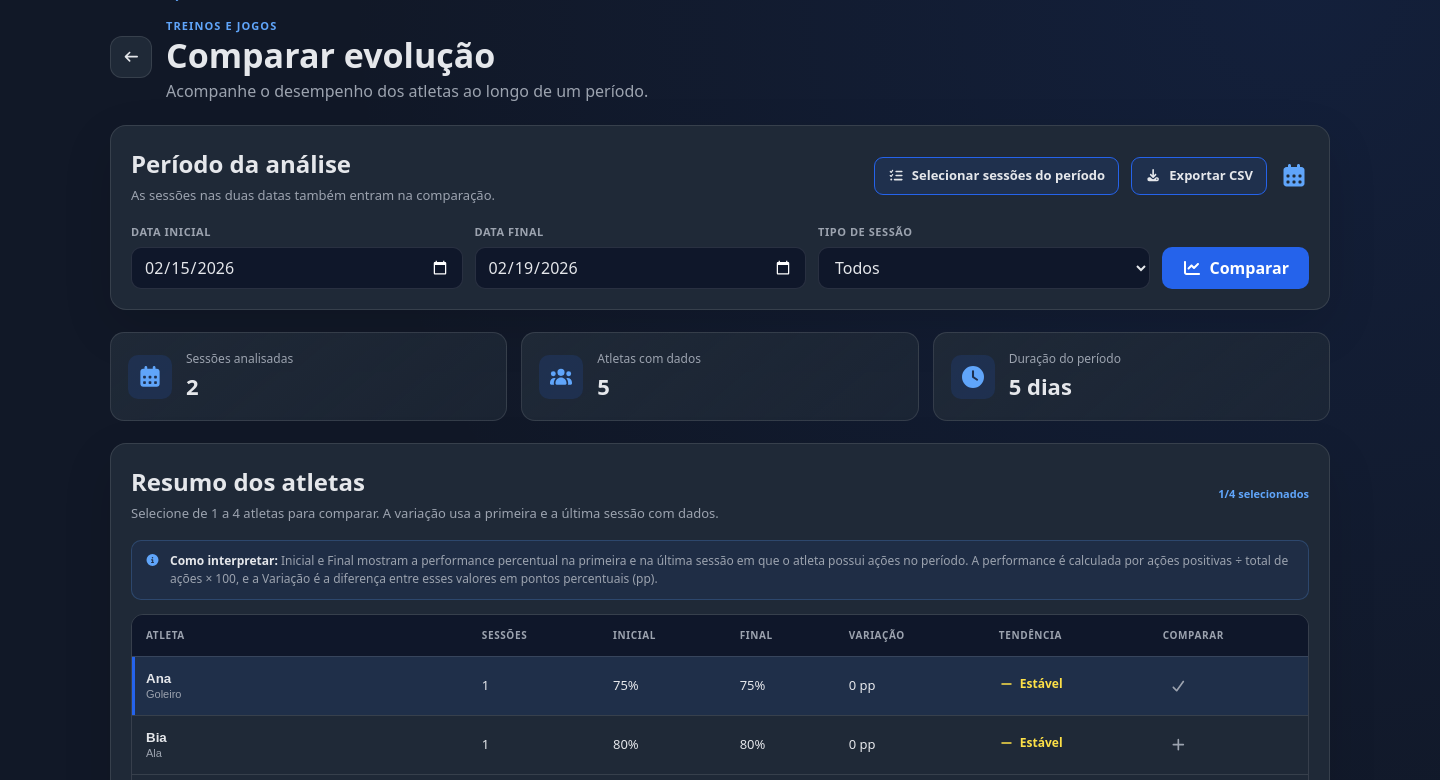
SessionComparison › limits the comparison to four athletes
Click the button named "Adicionar Bia à comparação".
click(1179, 745)  # box [1163,729,1195,761]
(page scrolled)
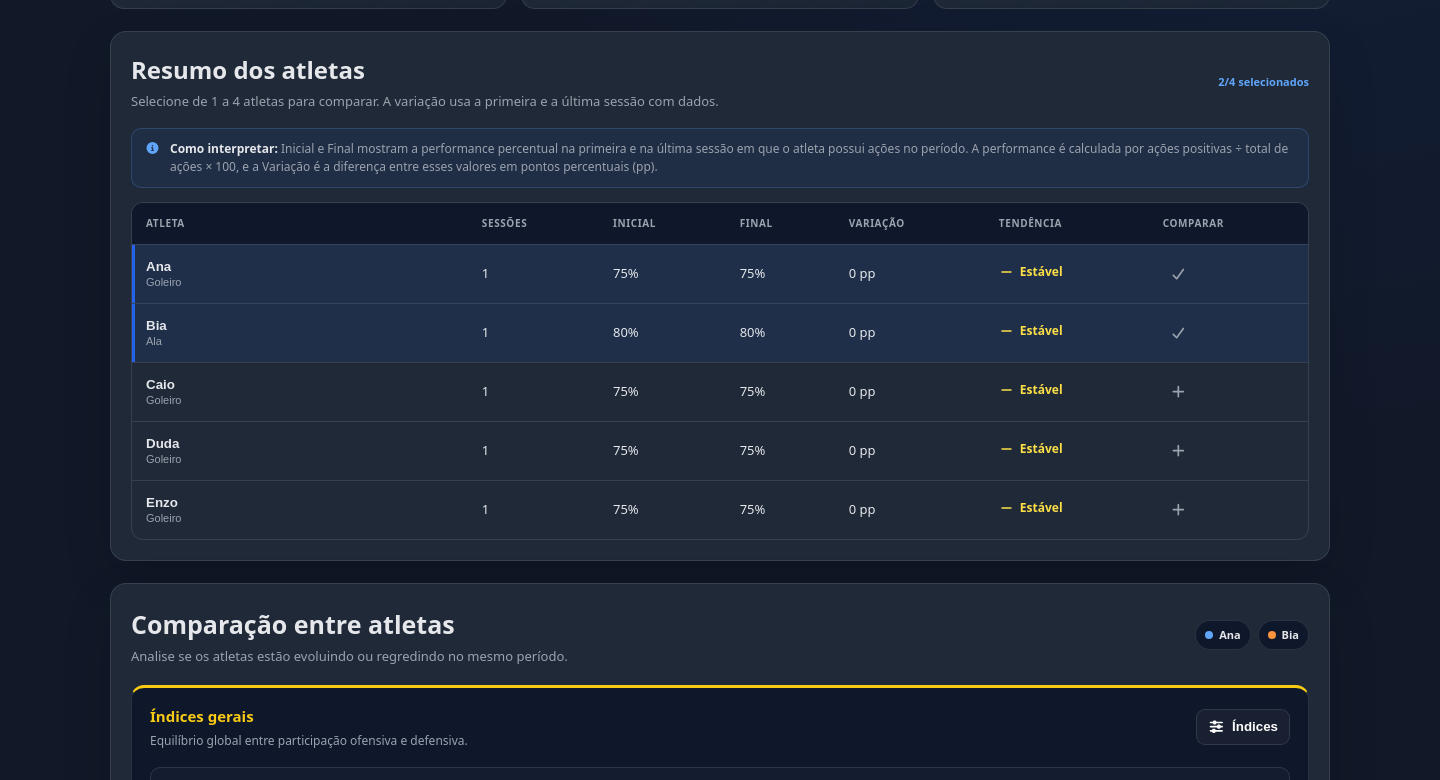
Click the button named "Adicionar Caio à comparação".
click(1179, 392)  # box [1163,376,1195,408]
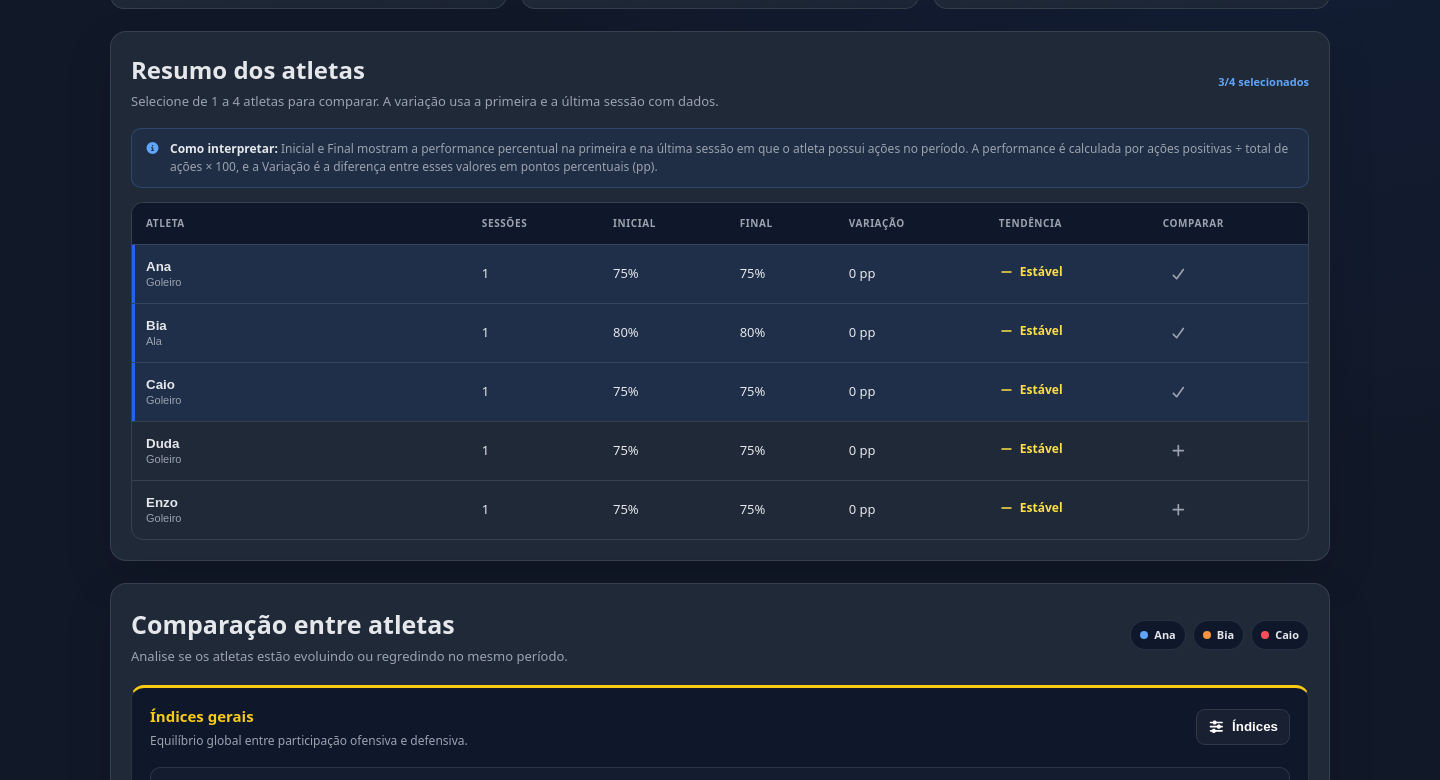
Click the button named "Adicionar Duda à comparação".
click(1179, 451)  # box [1163,435,1195,467]
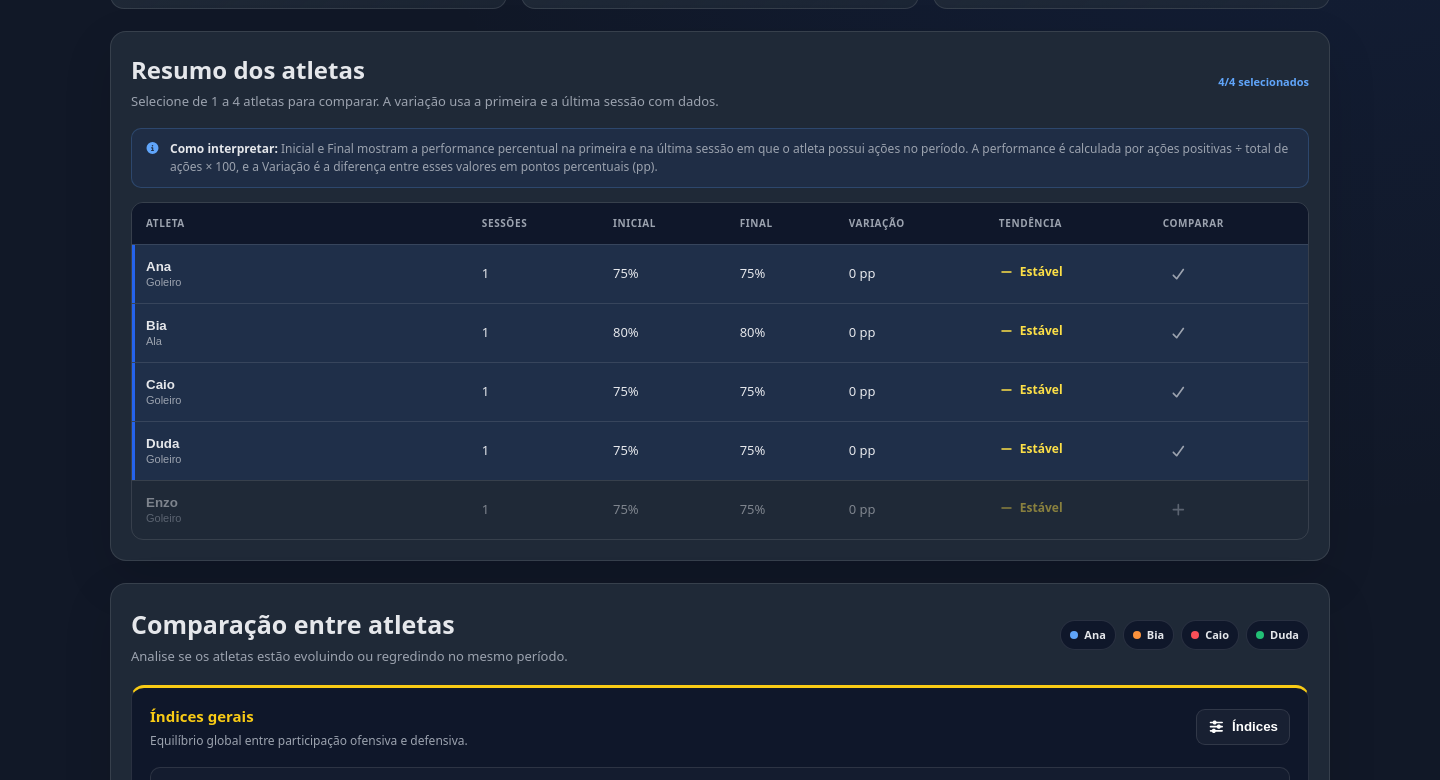
Result: the text "4/4 selecionados" is shown at [1218,74,1309,90]
Result: the button named "Adicionar Enzo à comparação" is disabled at [1163,494,1195,526]
